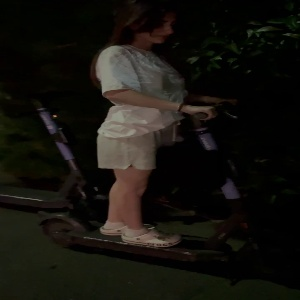human on a scooter: (35, 1, 283, 276)
